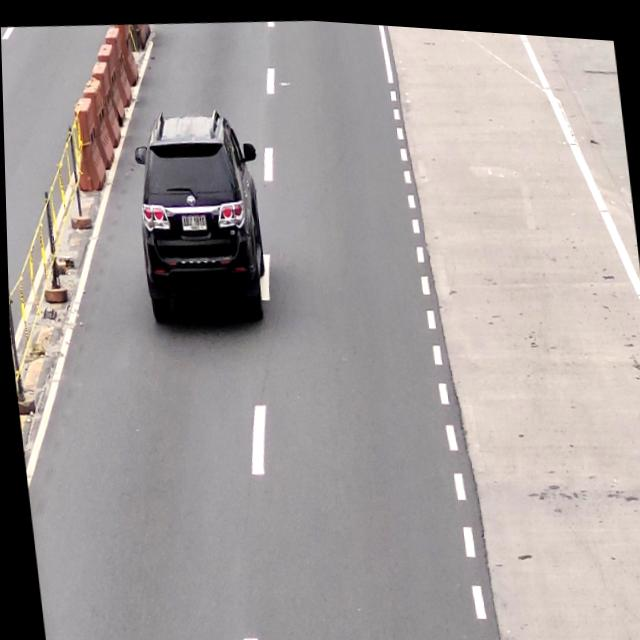Car: (127, 104, 269, 322)
License-Plate: (177, 207, 207, 231)
